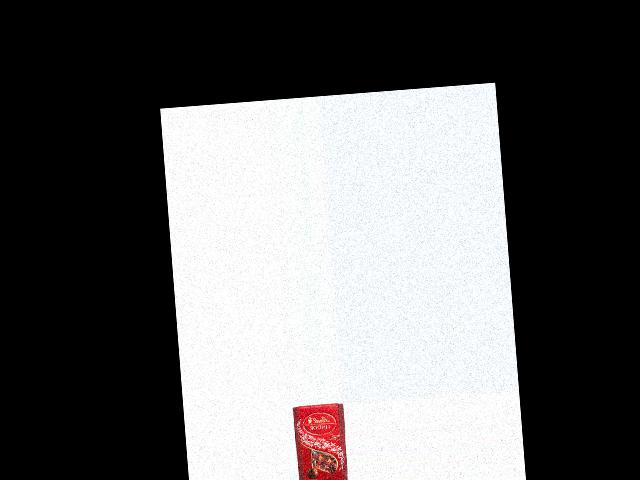chocolate: (287, 403, 348, 480)
